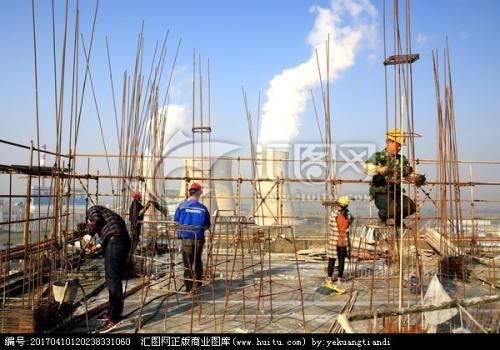helmet: (385, 127, 407, 157), (187, 182, 204, 203), (336, 192, 351, 211)
